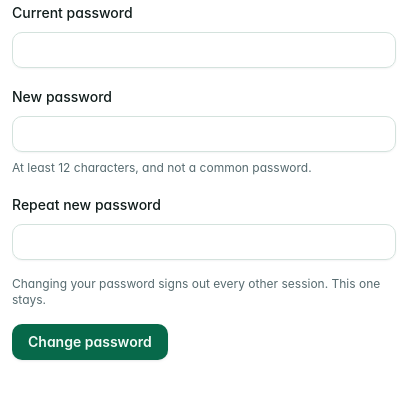
Test case: pre-validation › blocks a mismatched confirmation
The image size is (417, 402).
Type "old passphrase here" into the password field labelled "Current password" at (204,50), box [12,32,396,68]
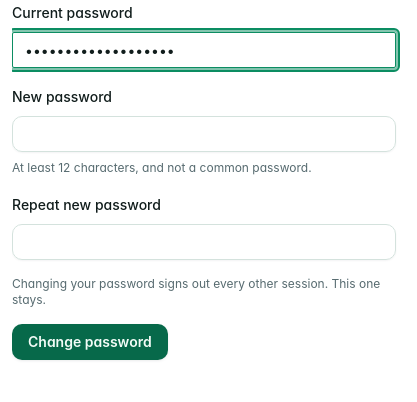
Type "a better passphrase" into the password field labelled "New password" at (204,134), box [12,116,396,152]
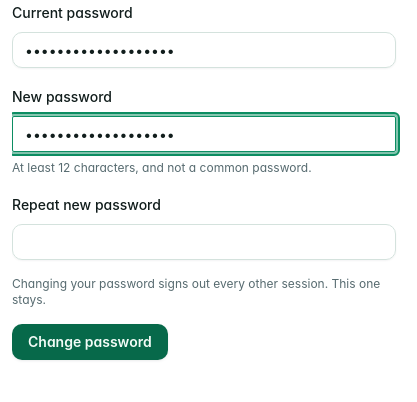
Type "a different one" into the password field labelled "Repeat new password" at (204,242), box [12,224,396,260]
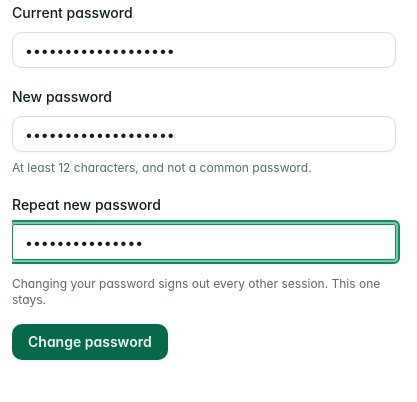
Click the button "Change password" at (90,342), box [12,324,168,360]
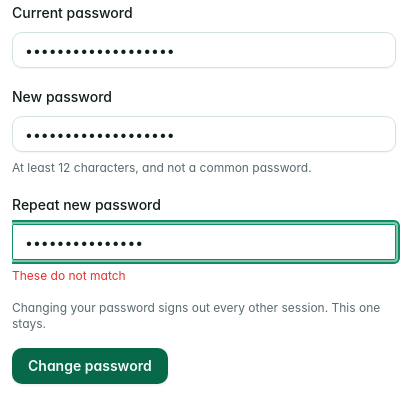
expect the text "These do not match" is shown: met, box [12,268,126,283]
